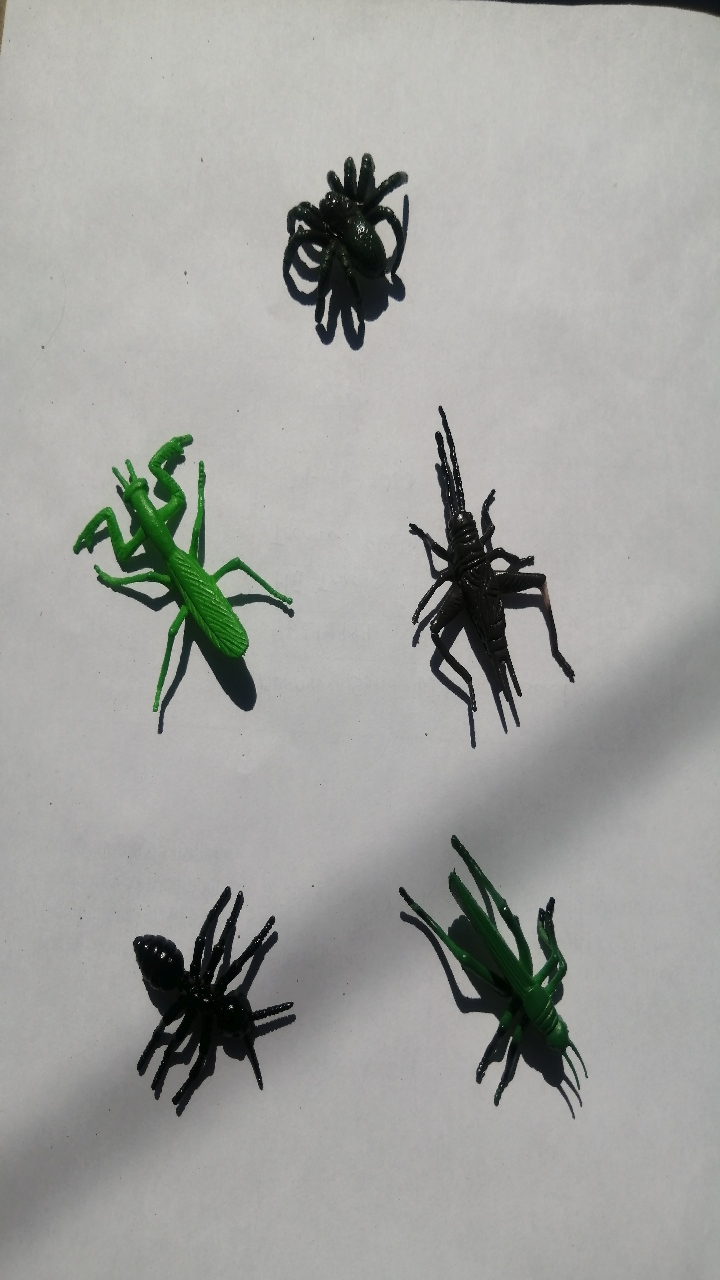intruso: (374, 388, 609, 771), (52, 402, 309, 740), (381, 814, 606, 1119), (89, 852, 301, 1140), (252, 115, 454, 365)
